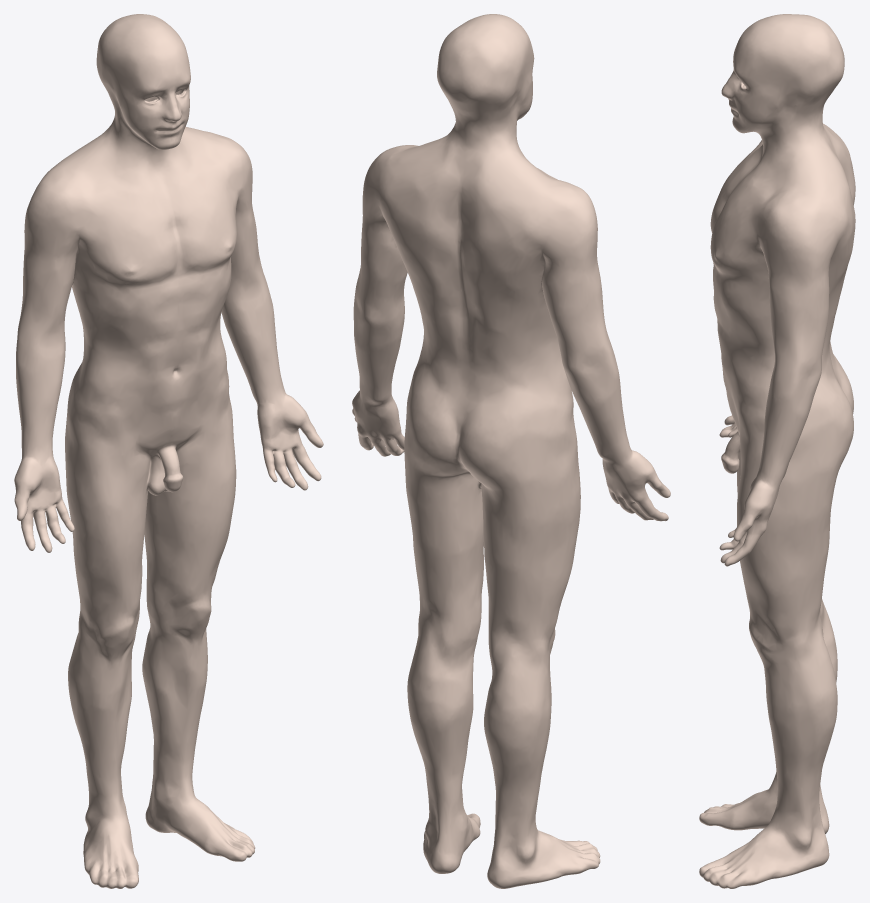
Rendered from peau-corps.hi.glb.
3 renders of one model, left to right at view 1: azimuth 30°, elevation 25°; view 2: azimuth 150°, elevation 25°; view 3: azimuth 270°, elevation 25°, orthographic. The views are drawn at different scales.
Parts seen in each view (by area): view 1: FJ2810; view 2: FJ2810; view 3: FJ2810.
Boxes of the visible parts, x1,y1,x2,y2 form: FJ2810: [14, 14, 323, 888]; FJ2810: [352, 14, 670, 888]; FJ2810: [699, 14, 855, 888].
Size of the model in its own units: 0.6669 by 1.72 by 0.292.
